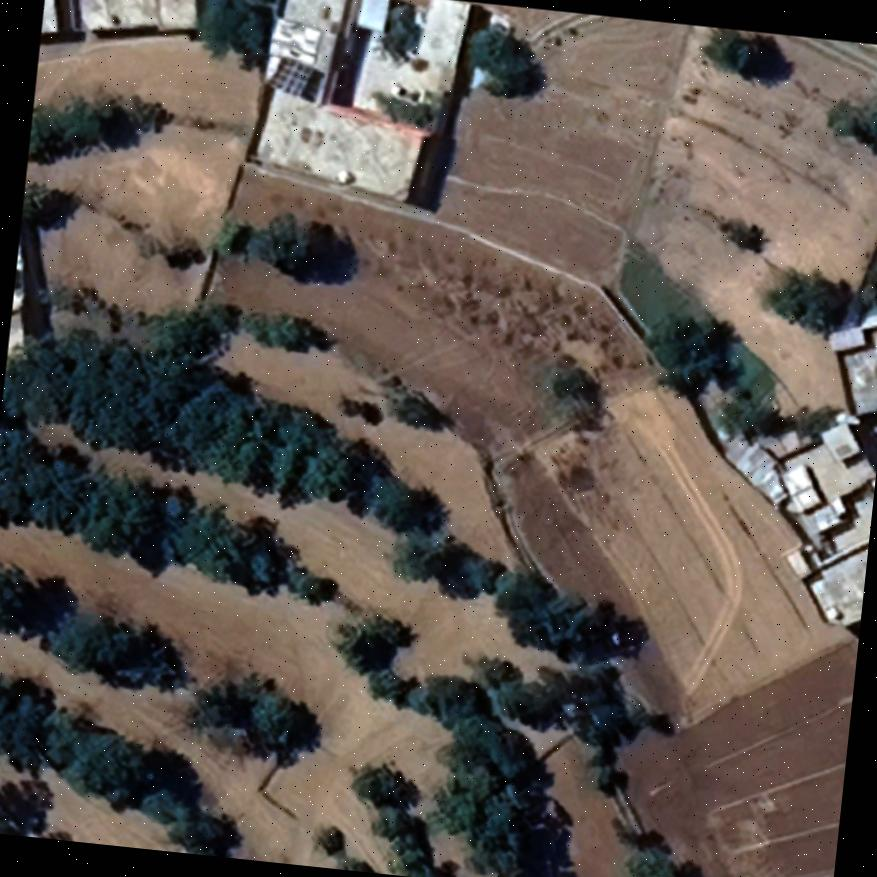Solarpanel: (268, 56, 314, 100)
